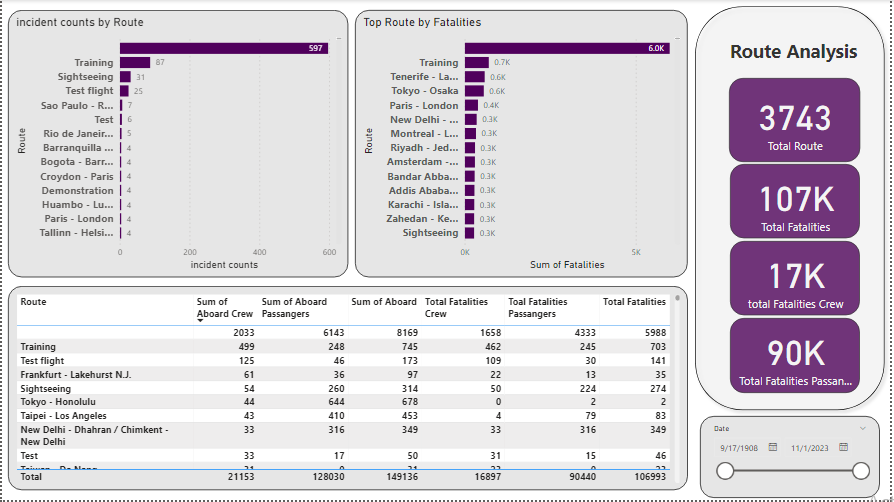

This screenshot's page, from the dashboard's own definition file:
{"tool":"powerbi","page":{"name":"Route Analysis","canvas":[1280,720],"ordinal":5},"visuals":[{"type":"card","fields":{"Values":["Sum(Airplane Crashes Analysis.Fatalities)"]},"box":[1048.3,236.2,187.2,106.6],"z":0},{"type":"card","fields":{"Values":["Sum(Airplane Crashes Analysis.Fatalities Crew)"]},"box":[1048.3,347,187.2,106.6],"z":1000},{"type":"card","fields":{"Values":["Count(Airplane Crashes Analysis.Route)"]},"box":[1046.9,112.3,188.6,121],"z":2000},{"type":"card","fields":{"Values":["Sum(Airplane Crashes Analysis.Fatalities Passangers)"]},"box":[1048.3,457.9,187.2,108],"z":3000},{"type":"slicer","fields":{"Values":["Airplane Crashes Analysis.Date"]},"box":[1005.1,599,259.2,118.1],"z":4000},{"type":"textbox","box":[1015.2,49,249.1,49],"z":5000},{"type":"shape","box":[989.4,0,290.6,599.7],"z":6000},{"type":"barChart","title":"Top Route by Fatalities","fields":{"Y":["Sum(Airplane Crashes Analysis.Fatalities)"],"Category":["Airplane Crashes Analysis.Route"]},"box":[509,15.1,478.7,384.7],"z":7000},{"type":"tableEx","fields":{"Values":["Airplane Crashes Analysis.Route","Sum(Airplane Crashes Analysis.Aboard Crew)","Sum(Airplane Crashes Analysis.Aboard Passangers)","Sum(Airplane Crashes Analysis.Aboard)","Sum(Airplane Crashes Analysis.Fatalities Crew)","Sum(Airplane Crashes Analysis.Fatalities Passangers)","Sum(Airplane Crashes Analysis.Fatalities)"]},"box":[8.4,411.5,979.3,294],"z":8000},{"type":"barChart","fields":{"Category":["Airplane Crashes Analysis.Route"],"Y":["Measure.incident counts"]},"box":[8.4,15.1,490.5,384.7],"z":9000}]}

Visuals, with their boxes in screenshot pixels (x1, y1, x2, y2), scaled from the page's 1280x720 canvas onto the 894x502 screenshot:
card - Sum(Airplane Crashes Analysis.Fatalities): crop(732, 165, 863, 239)
card - Sum(Airplane Crashes Analysis.Fatalities Crew): crop(732, 242, 863, 316)
card - Count(Airplane Crashes Analysis.Route): crop(731, 78, 863, 163)
card - Sum(Airplane Crashes Analysis.Fatalities Passangers): crop(732, 319, 863, 395)
slicer - Airplane Crashes Analysis.Date: crop(702, 418, 883, 500)
textbox: crop(709, 34, 883, 68)
shape: crop(691, 0, 893, 418)
"Top Route by Fatalities" barChart: crop(356, 11, 690, 279)
tableEx - Airplane Crashes Analysis.Route x Sum(Airplane Crashes Analysis.Aboard Crew): crop(6, 287, 690, 492)
barChart - Airplane Crashes Analysis.Route x Measure.incident counts: crop(6, 11, 348, 279)
